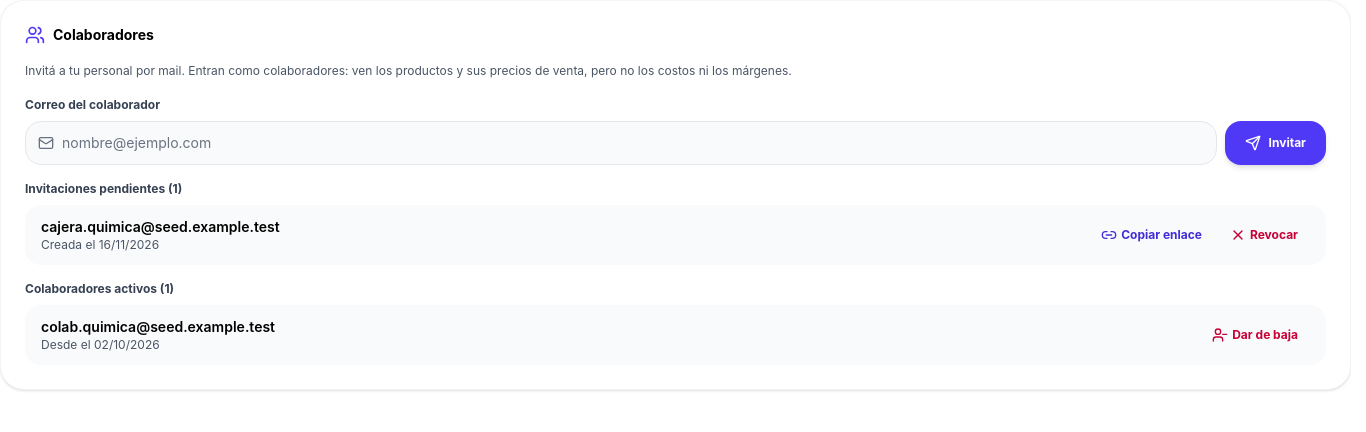
CollaboratorsSection (Perfil, solo ADMIN) › muestra un mensaje genérico si falla la red al invitar
Expected: the text "colab.quimica@seed.example.test" is shown, [41,318,275,334]
Type "repartidor.quimica@seed.example.test" into the field labelled "Correo del colaborador" at (633, 142), box [62,124,1204,160]
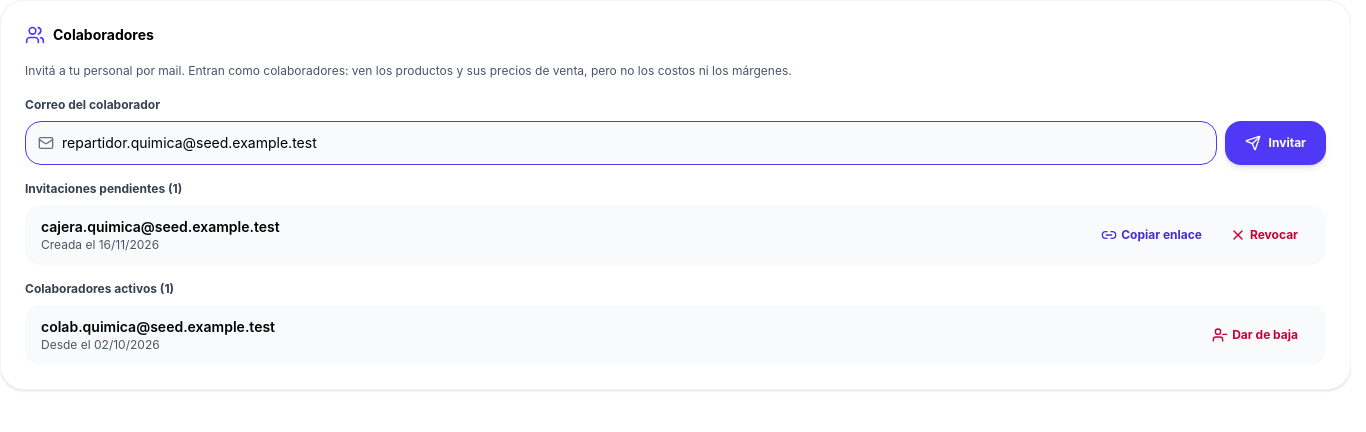
Click the button "Invitar" at (1275, 142), box [1225,120,1326,164]
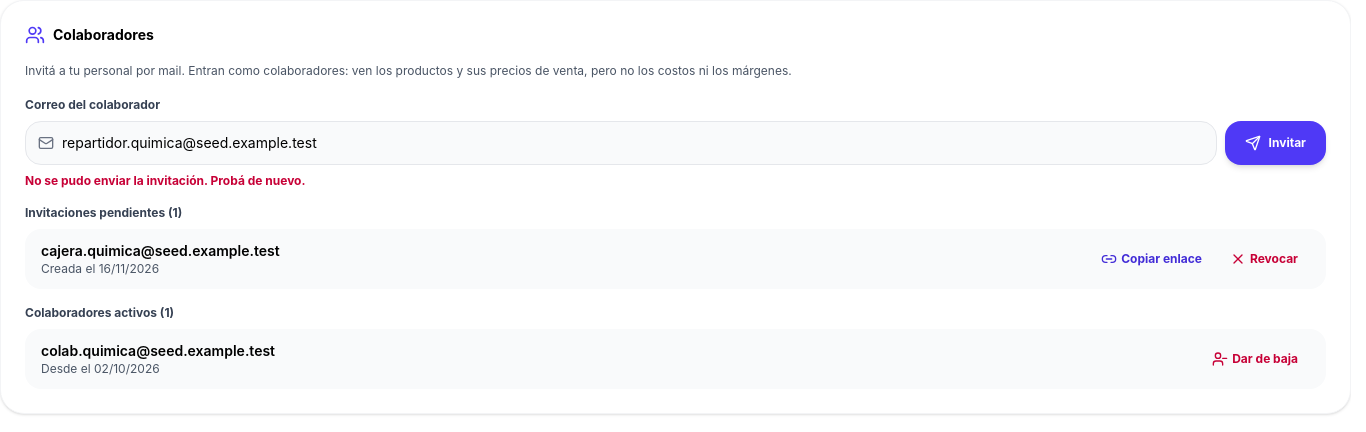
Expected: the message reads "No se pudo enviar la invitación. Probá de nuevo.", [25,172,306,188]
